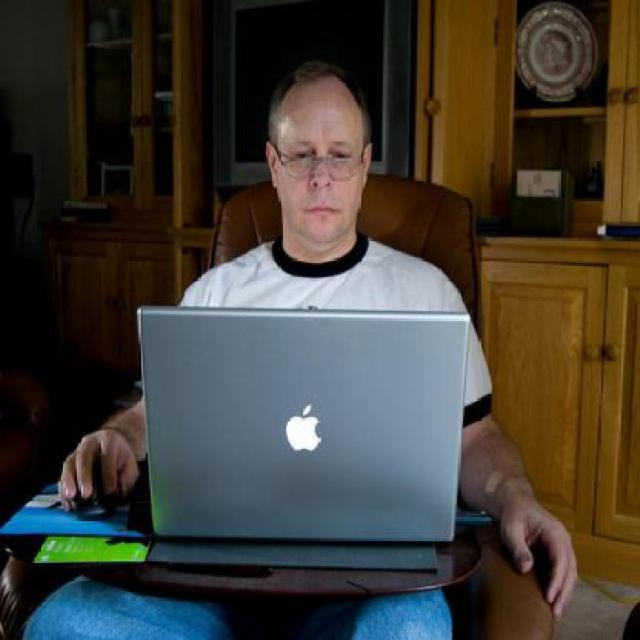Person: (22, 63, 580, 639)
